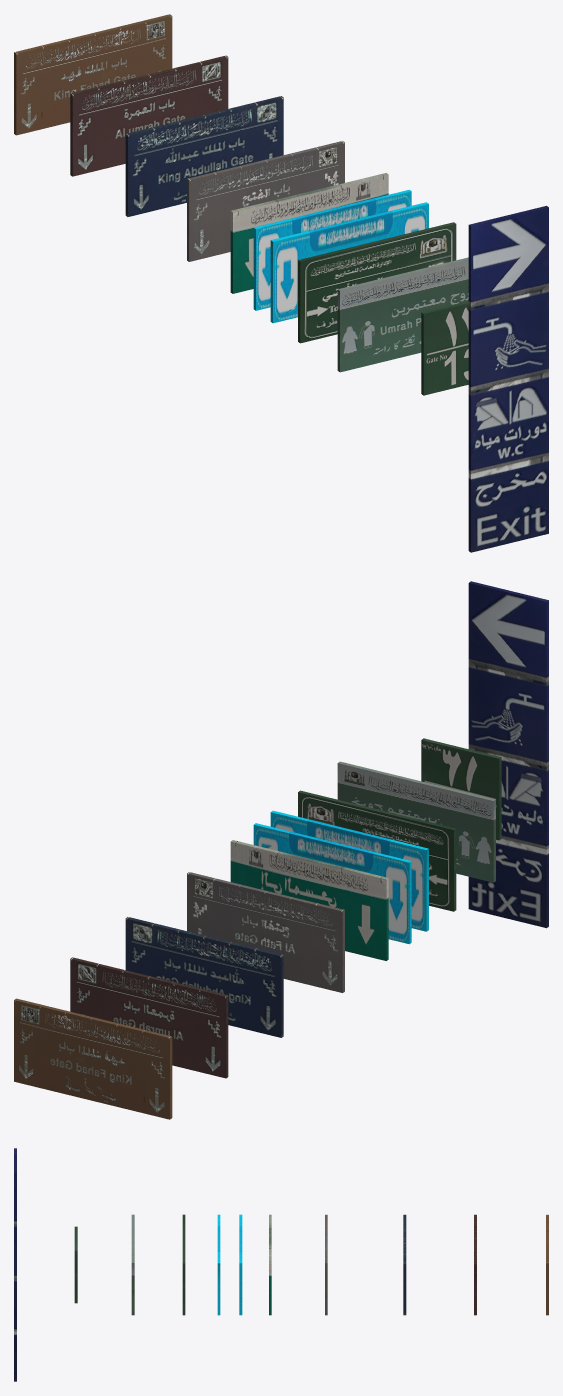
File: Signs.fbx
3 views of the same model, one above another, from view 1: azimuth 30°, elevation 25°; view 2: azimuth 150°, elevation 25°; view 3: azimuth 270°, elevation 25° (orthographic). The views are drawn at different scales.
Visible parts, largest first — view 1: W_C_Exit, King_Abdullah_Gate, King_Fahad_Gate, Al_umrah_Gate, Umrah_Performers_Exit, Al_Fath_Gate, To_Ground_Floor_Ma_saa, To_Masaa1, To_Masaa, Gate_No_13, Al_Salam_Gate_19; view 2: W_C_Exit, King_Fahad_Gate, Al_Fath_Gate, Al_umrah_Gate, King_Abdullah_Gate, To_Masaa, Umrah_Performers_Exit, To_Ground_Floor_Ma_saa, Al_Salam_Gate_19, To_Masaa1, Gate_No_13; view 3: W_C_Exit, King_Abdullah_Gate, Al_Salam_Gate_19, Umrah_Performers_Exit, To_Masaa1, To_Ground_Floor_Ma_saa, Gate_No_13, King_Fahad_Gate, Al_umrah_Gate, Al_Fath_Gate, To_Masaa.
Part boxes in pixels (x1,y1,x2,y2): W_C_Exit: (468,205,548,552); King_Abdullah_Gate: (125,96,283,216); King_Fahad_Gate: (14,14,172,135); Al_umrah_Gate: (70,55,228,176); Umrah_Performers_Exit: (337,257,468,372); Al_Fath_Gate: (187,141,344,261); To_Ground_Floor_Ma_saa: (298,222,456,343); To_Masaa1: (270,202,428,323); To_Masaa: (230,173,388,293); Gate_No_13: (421,301,468,395); Al_Salam_Gate_19: (253,189,411,310); W_C_Exit: (468,581,548,928); King_Fahad_Gate: (14,998,172,1119); Al_Fath_Gate: (187,872,344,992); Al_umrah_Gate: (70,957,228,1078); King_Abdullah_Gate: (125,917,283,1037); To_Masaa: (230,840,388,960); Umrah_Performers_Exit: (337,761,495,882); To_Ground_Floor_Ma_saa: (298,790,456,911); Al_Salam_Gate_19: (253,823,411,944); To_Masaa1: (270,810,428,931); Gate_No_13: (421,738,501,840); W_C_Exit: (14,1148,16,1381); King_Abdullah_Gate: (403,1214,406,1315); Al_Salam_Gate_19: (239,1214,242,1315); Umrah_Performers_Exit: (131,1214,134,1315); To_Masaa1: (217,1214,220,1315); To_Ground_Floor_Ma_saa: (182,1214,185,1315); Gate_No_13: (74,1226,77,1303); King_Fahad_Gate: (546,1214,548,1315); Al_umrah_Gate: (474,1214,476,1315); Al_Fath_Gate: (325,1214,327,1315); To_Masaa: (269,1214,271,1315).
Bounding box in the file's own units: 2 × 4 × 9.29.
11 materials, 11 textured.
